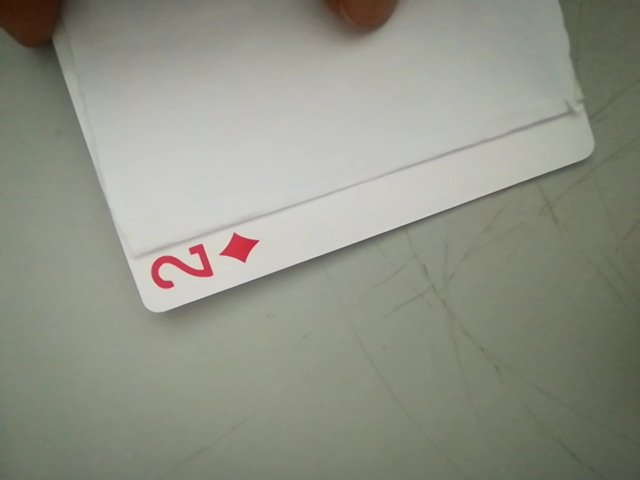fk 2: (137, 228, 260, 303)
